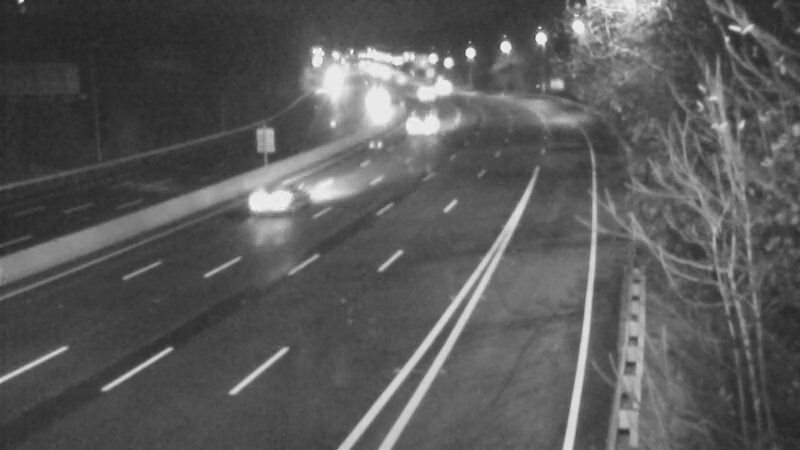vehicle: (235, 162, 315, 242), (419, 60, 469, 110), (399, 69, 449, 119), (400, 100, 450, 150), (350, 80, 400, 130)
